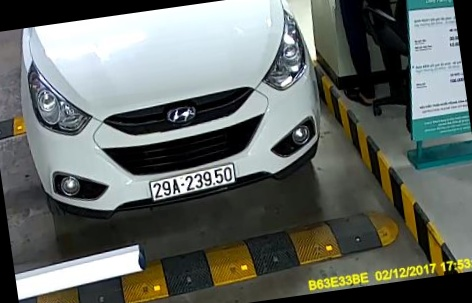plate: (139, 163, 248, 204)
